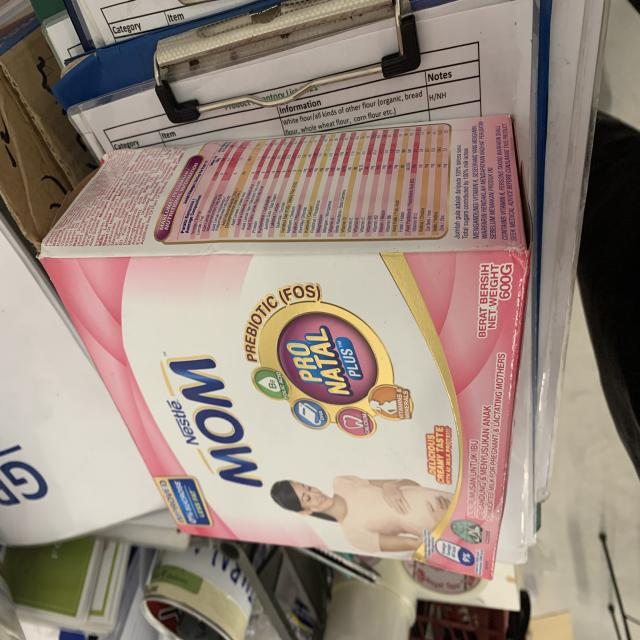object_name: (37, 155, 526, 575)
